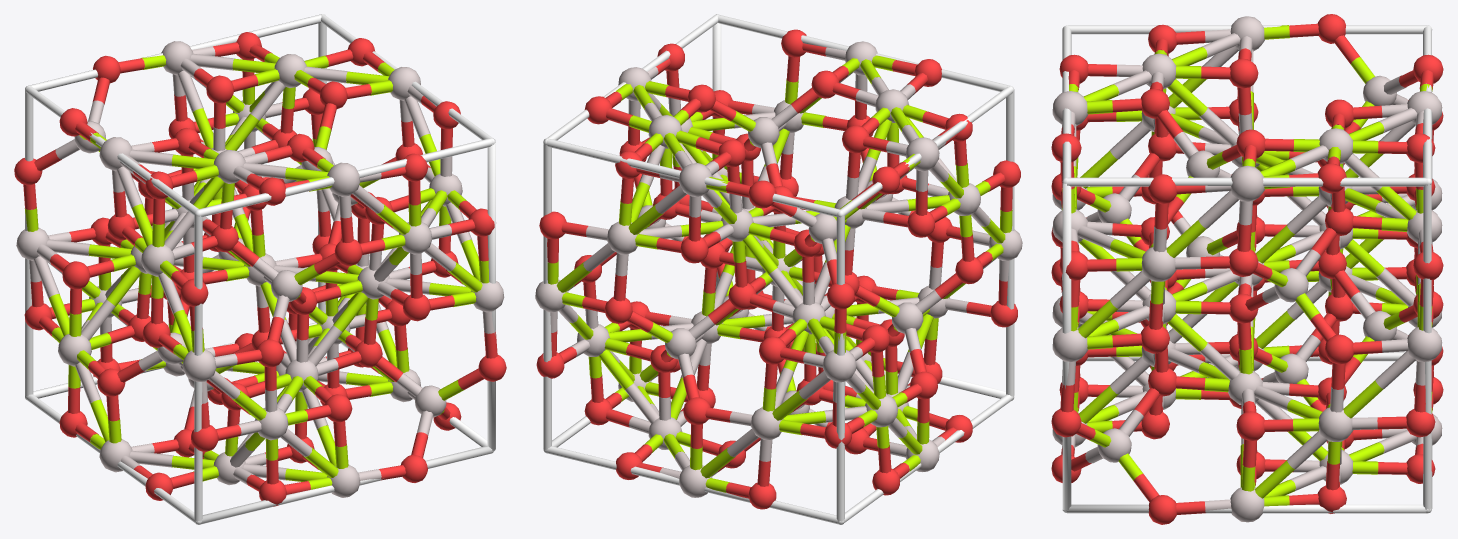
Rendered from espinel.fbx.
The picture shows the model from 3 angles, left to right: view 1: azimuth 30°, elevation 25°; view 2: azimuth 150°, elevation 25°; view 3: azimuth 270°, elevation 25°; orthographic projection. The views are drawn at different scales.
Visible parts, largest first — view 1: O.008, Al.001, verdes, limite.012; view 2: O.008, Al.001, verdes, limite.012; view 3: O.008, Al.001, verdes, limite.012.
Boxes of the visible parts, x1=… form: O.008: x1=14, y1=32, x2=506, y2=506; Al.001: x1=16, y1=41, x2=504, y2=497; verdes: x1=24, y1=53, x2=489, y2=489; limite.012: x1=25, y1=14, x2=495, y2=524; O.008: x1=536, y1=29, x2=1020, y2=509; Al.001: x1=535, y1=41, x2=1022, y2=497; verdes: x1=547, y1=55, x2=1012, y2=492; limite.012: x1=543, y1=14, x2=1014, y2=524; O.008: x1=1051, y1=14, x2=1443, y2=524; Al.001: x1=1052, y1=16, x2=1442, y2=522; verdes: x1=1062, y1=25, x2=1432, y2=506; limite.012: x1=1062, y1=25, x2=1432, y2=513.
Size of the model in its own units: 20.07 by 20.09 by 20.1.
